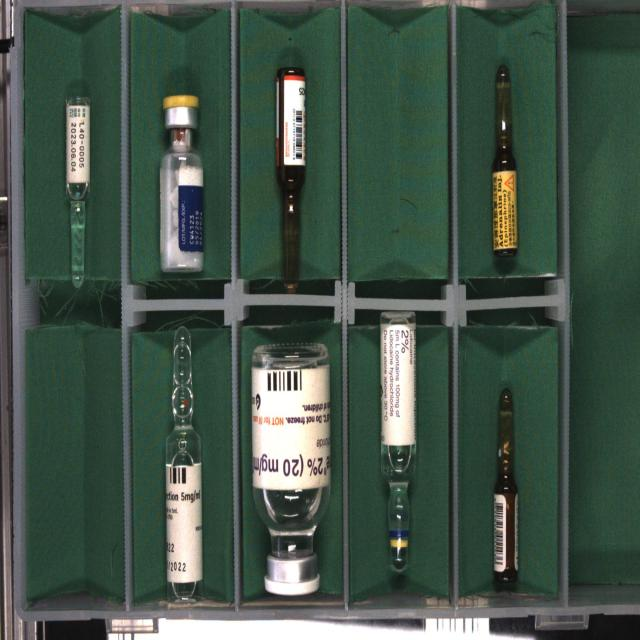Vials: (251, 344, 330, 595), (160, 95, 204, 272)
